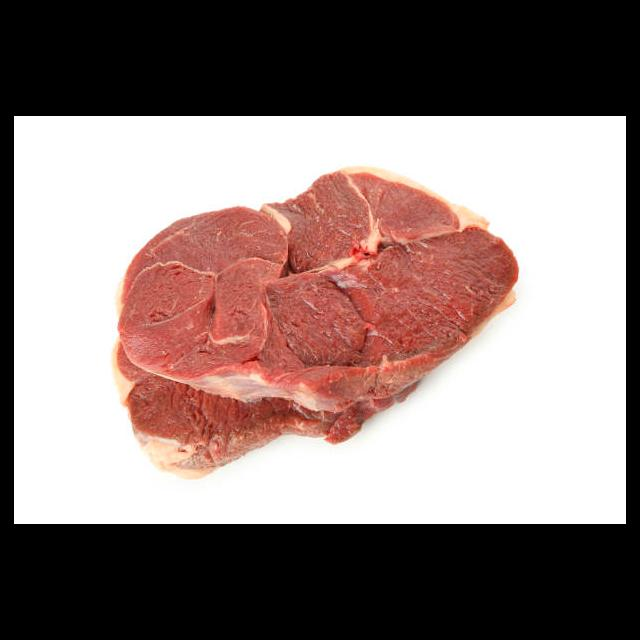beef: (111, 167, 520, 482)
